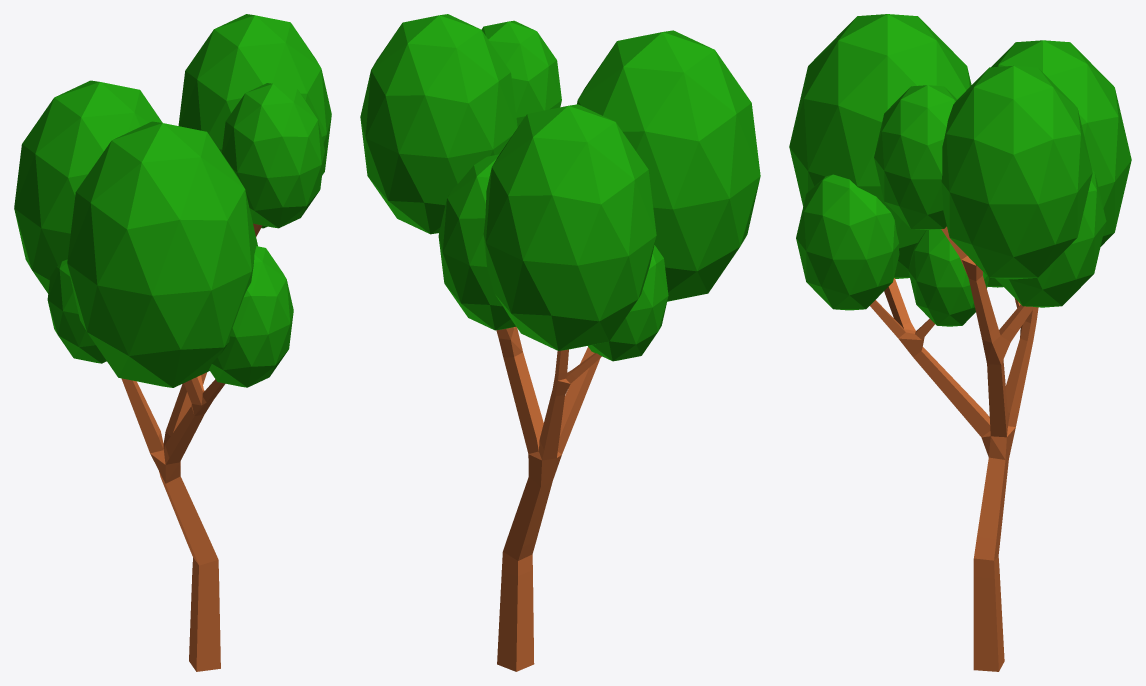
The model's file is tree.fbx.
3 views of the same model, side by side, from view 1: azimuth 30°, elevation 25°; view 2: azimuth 150°, elevation 25°; view 3: azimuth 270°, elevation 25° (orthographic). The views are drawn at different scales.
Parts seen in each view (by area): view 1: Icosphere.003, Icosphere.006, Icosphere, Icosphere.002, Cube, Icosphere.004, Icosphere.007; view 2: Icosphere.006, Icosphere.003, Icosphere, Cube, Icosphere.001, Icosphere.002, Icosphere.007; view 3: Icosphere, Icosphere.003, Cube, Icosphere.004, Icosphere.002, Icosphere.006, Icosphere.001, Icosphere.005.
Boxes of the visible parts, x1,y1,x2,y2 form: Icosphere.003: (67, 121, 257, 387); Icosphere.006: (14, 80, 162, 293); Icosphere: (178, 14, 331, 228); Icosphere.002: (222, 83, 324, 228); Cube: (121, 223, 262, 671); Icosphere.004: (209, 246, 293, 387); Icosphere.007: (47, 259, 106, 363); Icosphere.006: (483, 104, 656, 350); Icosphere.003: (576, 30, 760, 301); Icosphere: (360, 14, 517, 234); Cube: (496, 327, 601, 671); Icosphere.001: (438, 154, 515, 330); Icosphere.002: (481, 20, 561, 127); Icosphere.007: (588, 245, 668, 361); Icosphere: (941, 65, 1092, 279); Icosphere.003: (789, 14, 971, 278); Cube: (870, 226, 1038, 671); Icosphere.004: (796, 174, 899, 310); Icosphere.002: (874, 85, 956, 229); Icosphere.006: (991, 40, 1131, 246); Icosphere.001: (995, 169, 1106, 307); Icosphere.005: (908, 229, 989, 326).
Size of the model in its own units: 676 by 1349 by 664.
